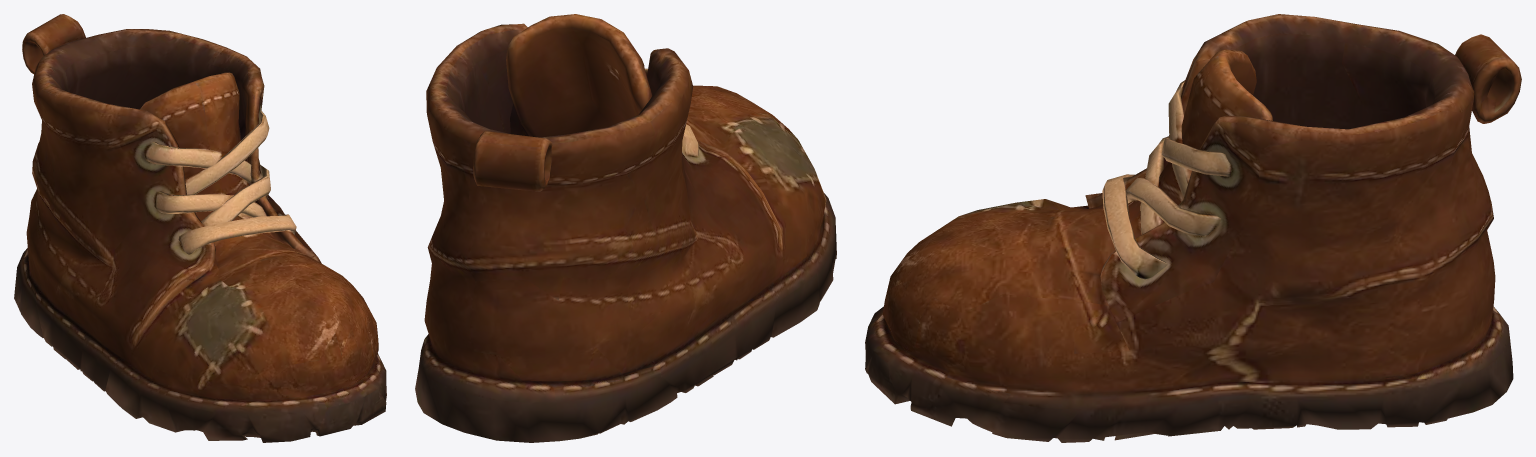
File: botte_vagabond.glb
3 views of the same model, side by side, from view 1: azimuth 30°, elevation 25°; view 2: azimuth 150°, elevation 25°; view 3: azimuth 270°, elevation 25° (orthographic). The views are drawn at different scales.
Size of the model in its own units: 0.4624 by 0.5195 by 0.9448.
1 material, 1 textured.
